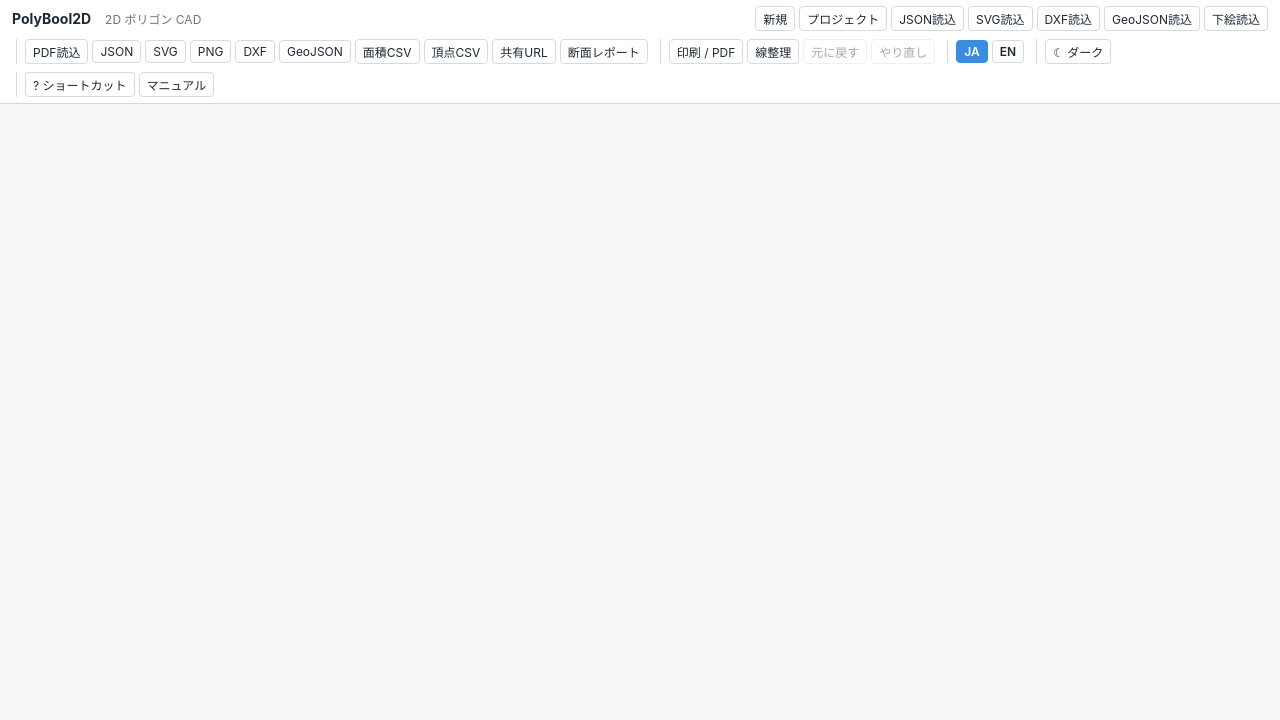
Test case: persistence UI › explains unreadable snapshots and disables only their restore actions
Click the button "プロジェクト". click: (843, 18)
box: [799, 6, 887, 31]
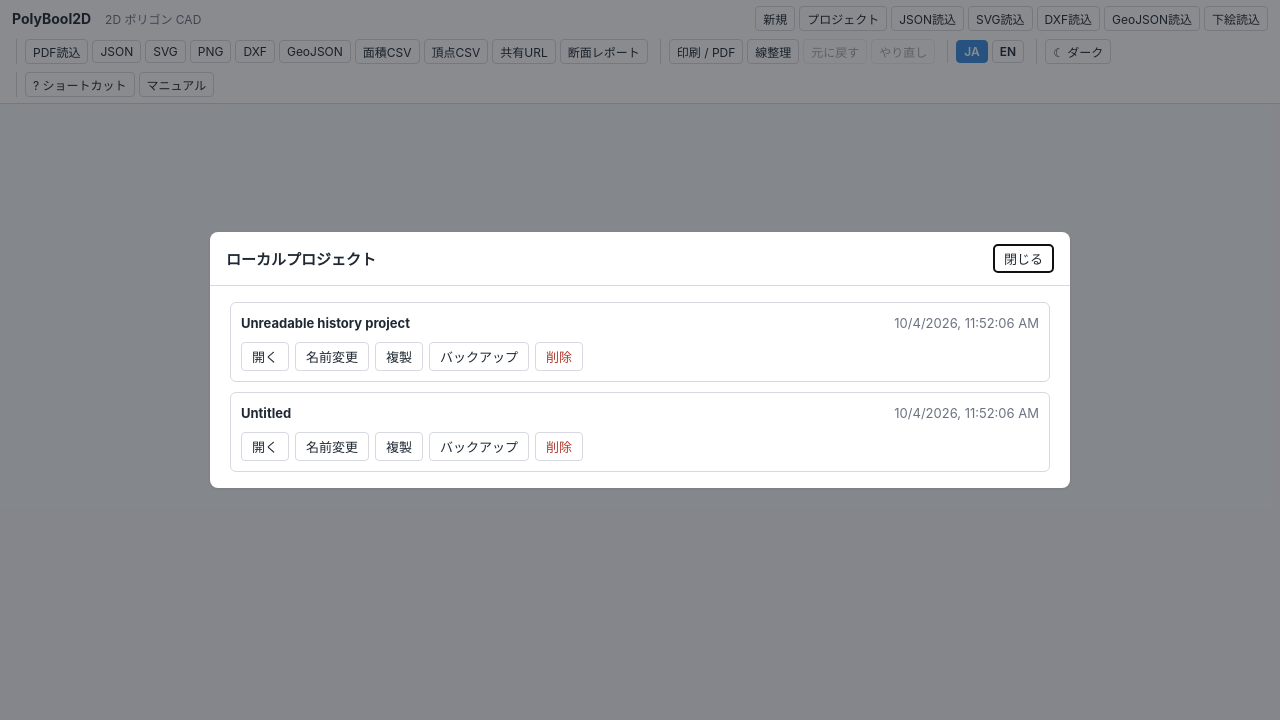
Click the button "バックアップ" below "Unreadable history project". click: (479, 356)
box: [429, 342, 529, 371]
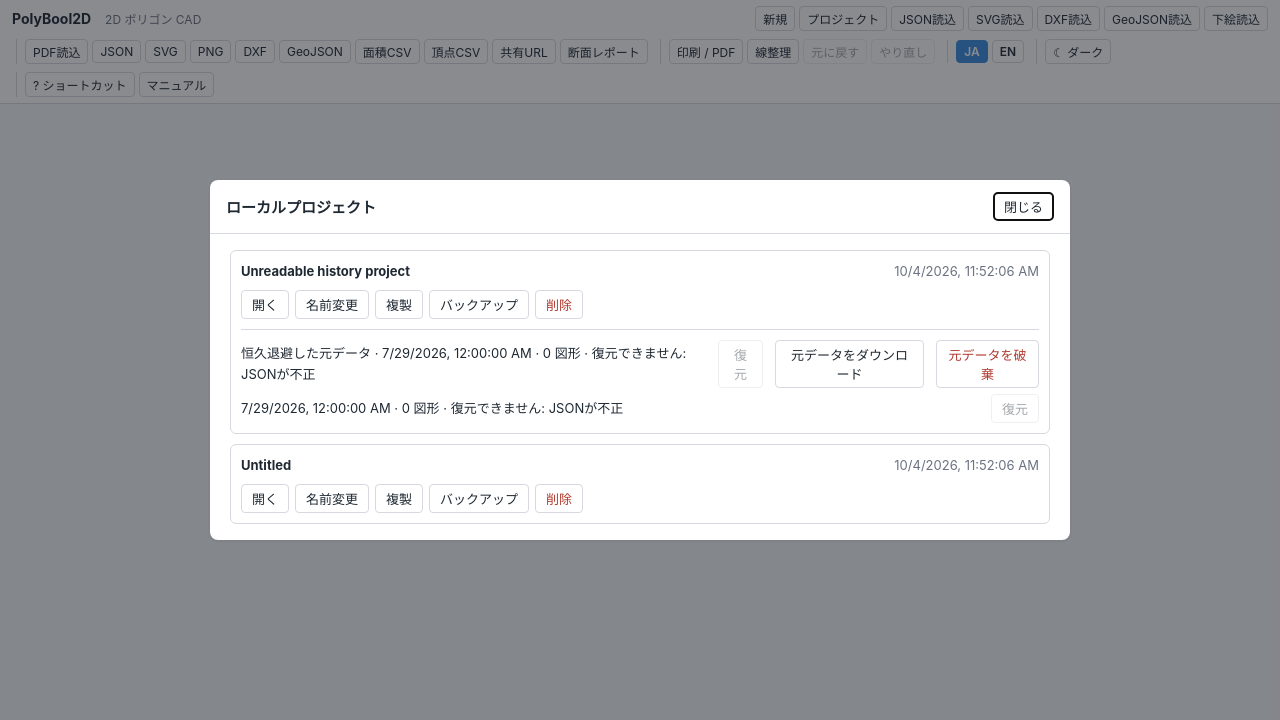
expect the element that starts with "Unreadable history project" shows "復元できません: JSONが不正": met, box [241, 345, 686, 382]
expect the button "元データをダウンロード" is enabled: met, box [775, 340, 924, 388]
